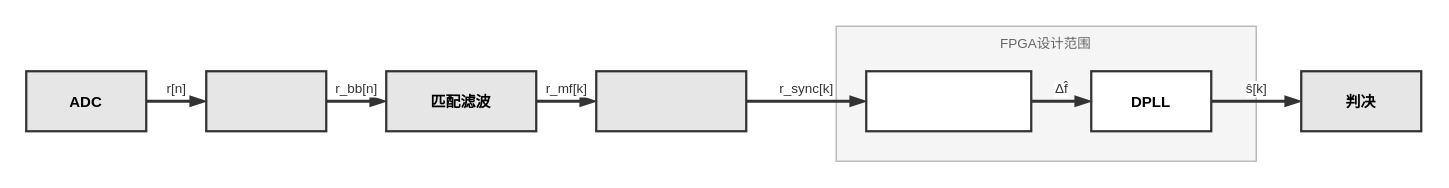
Image size: 1449x188. Some labels were removed from this diagram. Each missing label, with the box of its shape:
DDC: (204, 69, 327, 132)
FFT频偏估计: (864, 69, 1032, 132)
定时同步: (594, 69, 747, 132)
